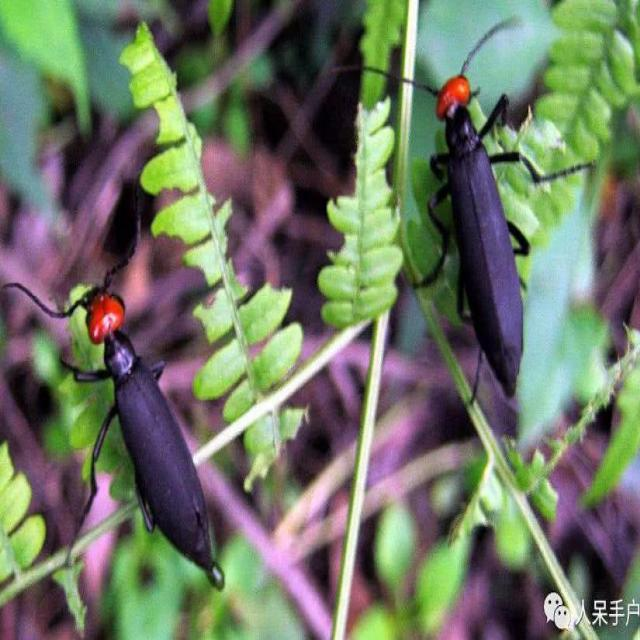BlisterBeetle-Adult-: (389, 36, 565, 411), (64, 241, 224, 601)
